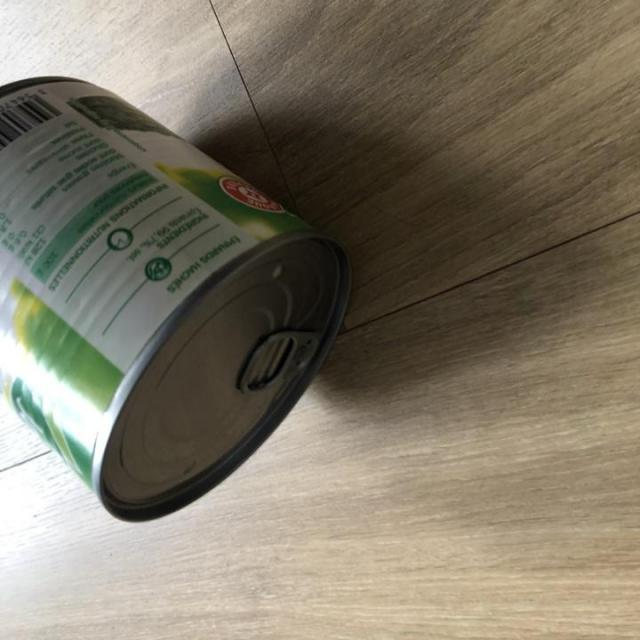recyclable: (0, 52, 350, 534)
